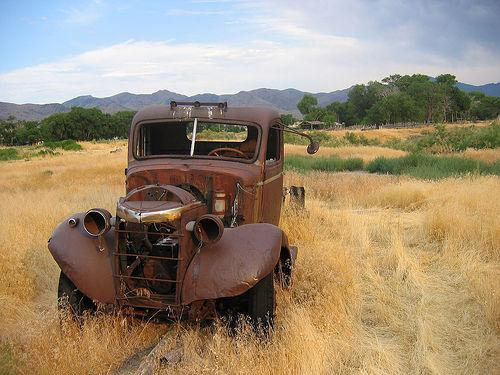truck: (47, 100, 320, 343)
